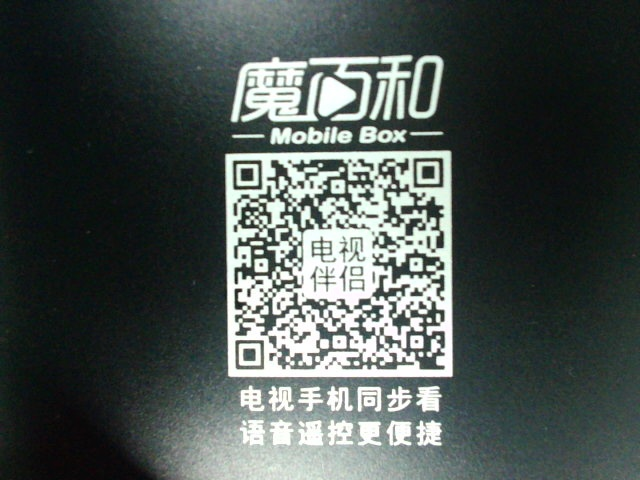AZ_MobileBox: (212, 49, 462, 447)
